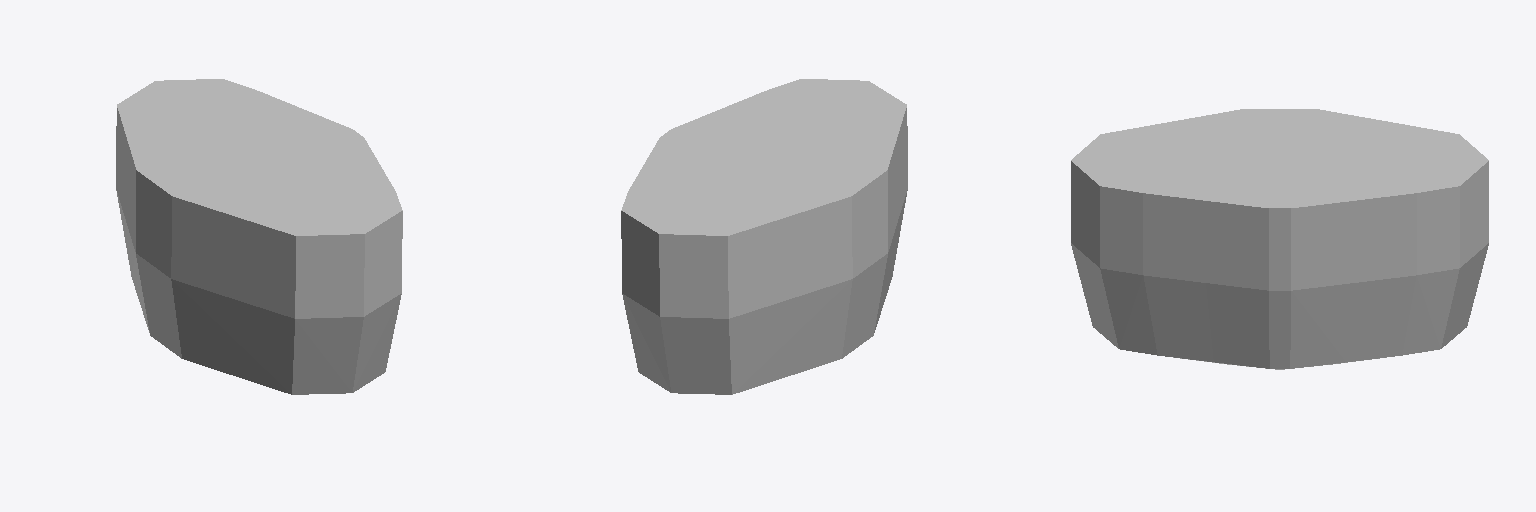
The model's file is waist.obj.
The picture shows the model from 3 angles: view 1: azimuth 30°, elevation 25°; view 2: azimuth 150°, elevation 25°; view 3: azimuth 270°, elevation 25°; orthographic projection.
Size of the model in its own units: 5.58 by 5.07 by 9.87.